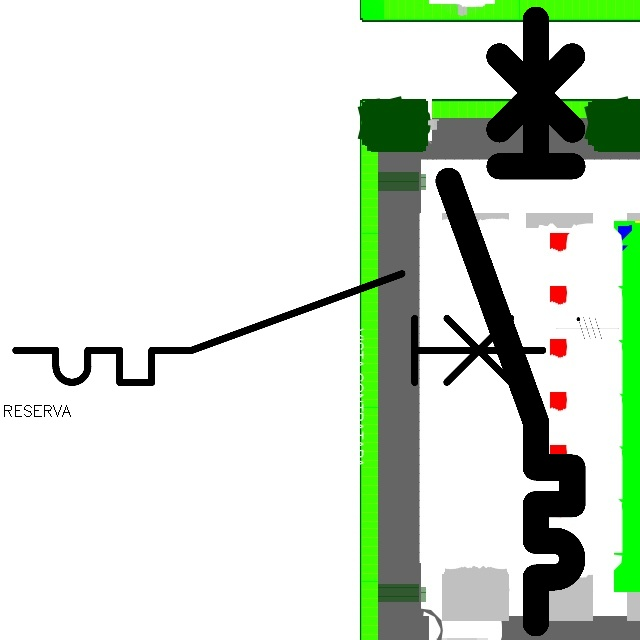interruptor_termomagnetico: (433, 4, 588, 639), (2, 260, 556, 396)
